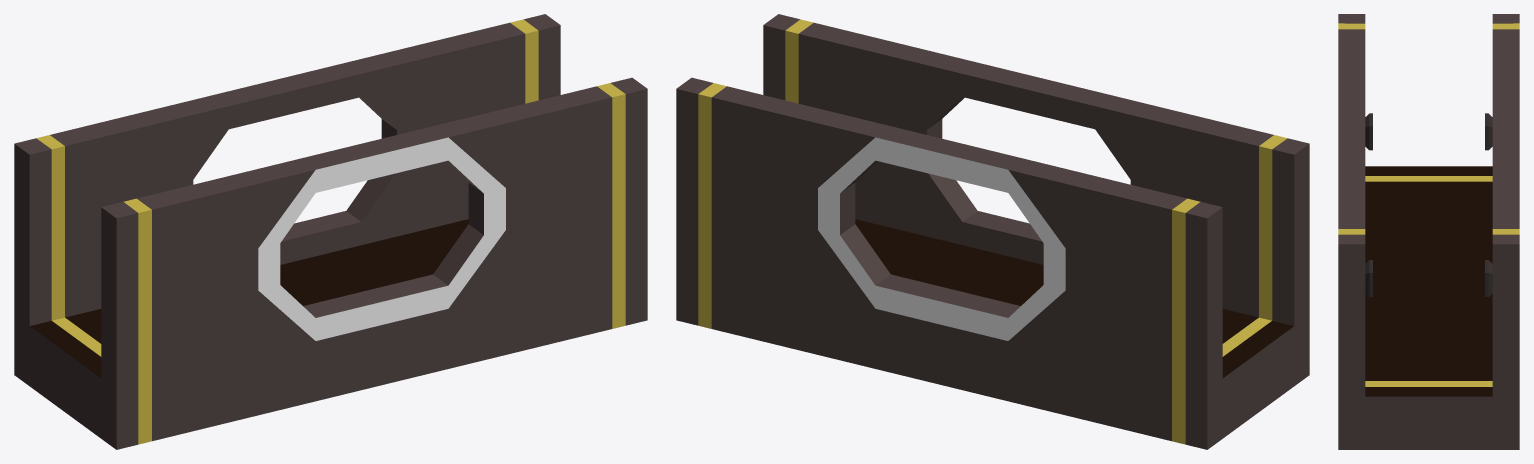
File: Peintureur.fbx
The picture shows the model from 3 angles, left to right: view 1: azimuth 30°, elevation 25°; view 2: azimuth 150°, elevation 25°; view 3: azimuth 270°, elevation 25°; orthographic projection. The views are drawn at different scales.
Parts seen in each view (by area): view 1: Peintureur; view 2: Peintureur; view 3: Peintureur.
Boxes of the visible parts, <box> form: Peintureur: <box>14,14,647,449</box>; Peintureur: <box>676,14,1309,449</box>; Peintureur: <box>1338,14,1519,449</box>.
Bounding box in the file's own units: 600 × 250 × 200.
